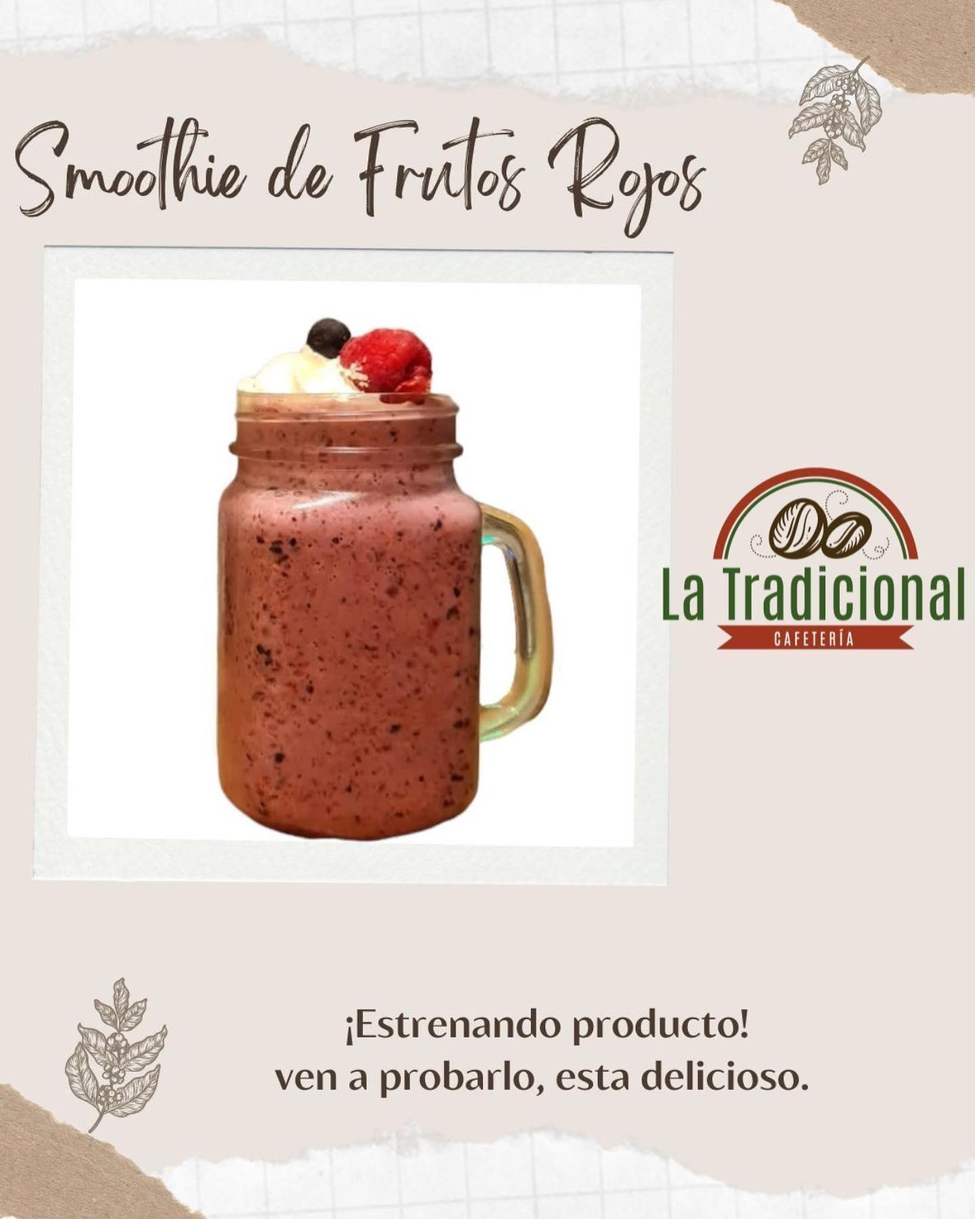glass-mug: (204, 375, 561, 845)
